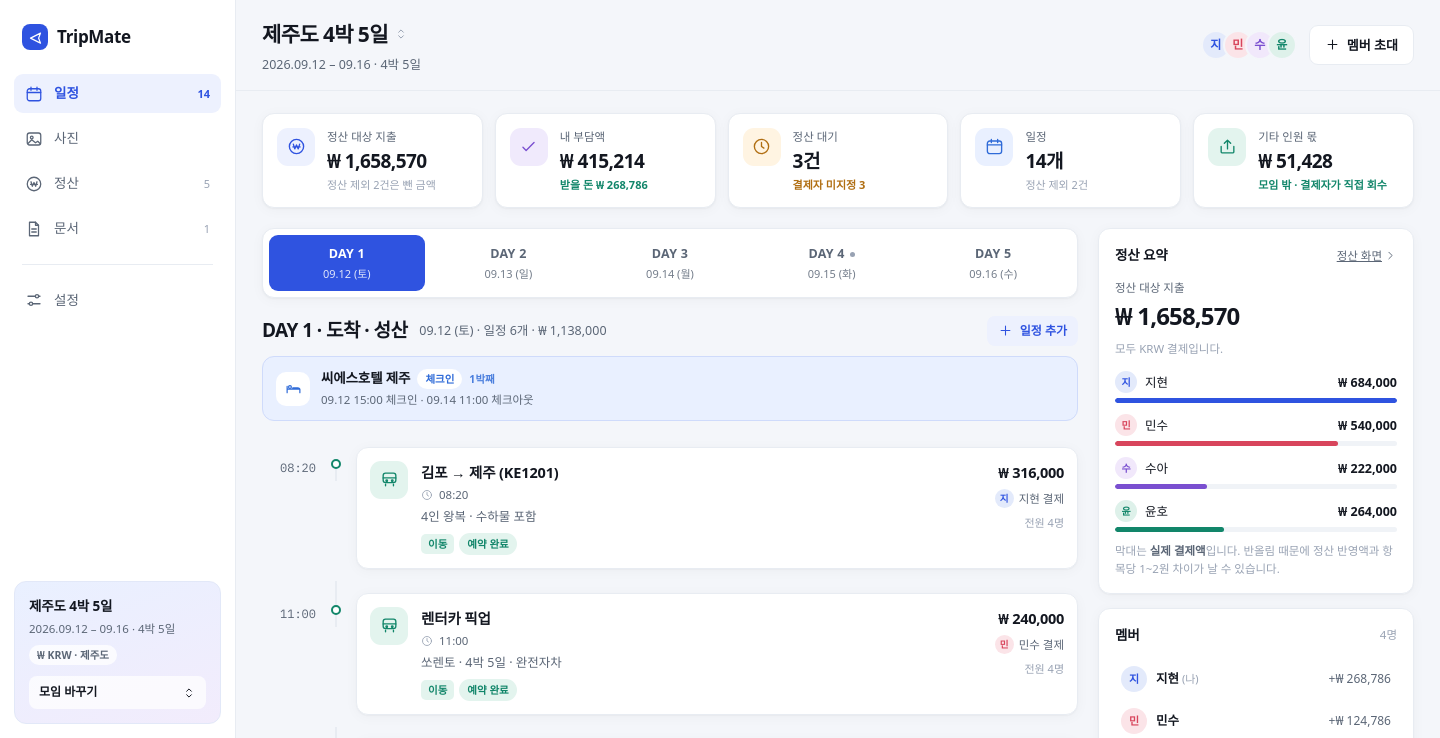
Test: 일정 화면 › 09.14 일차에는 숙소 칩이 2개다 (체크아웃 + 체크인)
Click the button with class "daytab" showing "DAY 3 09.14 (월)" at [670, 263], box top-left (592, 235), bottom-right (748, 291)
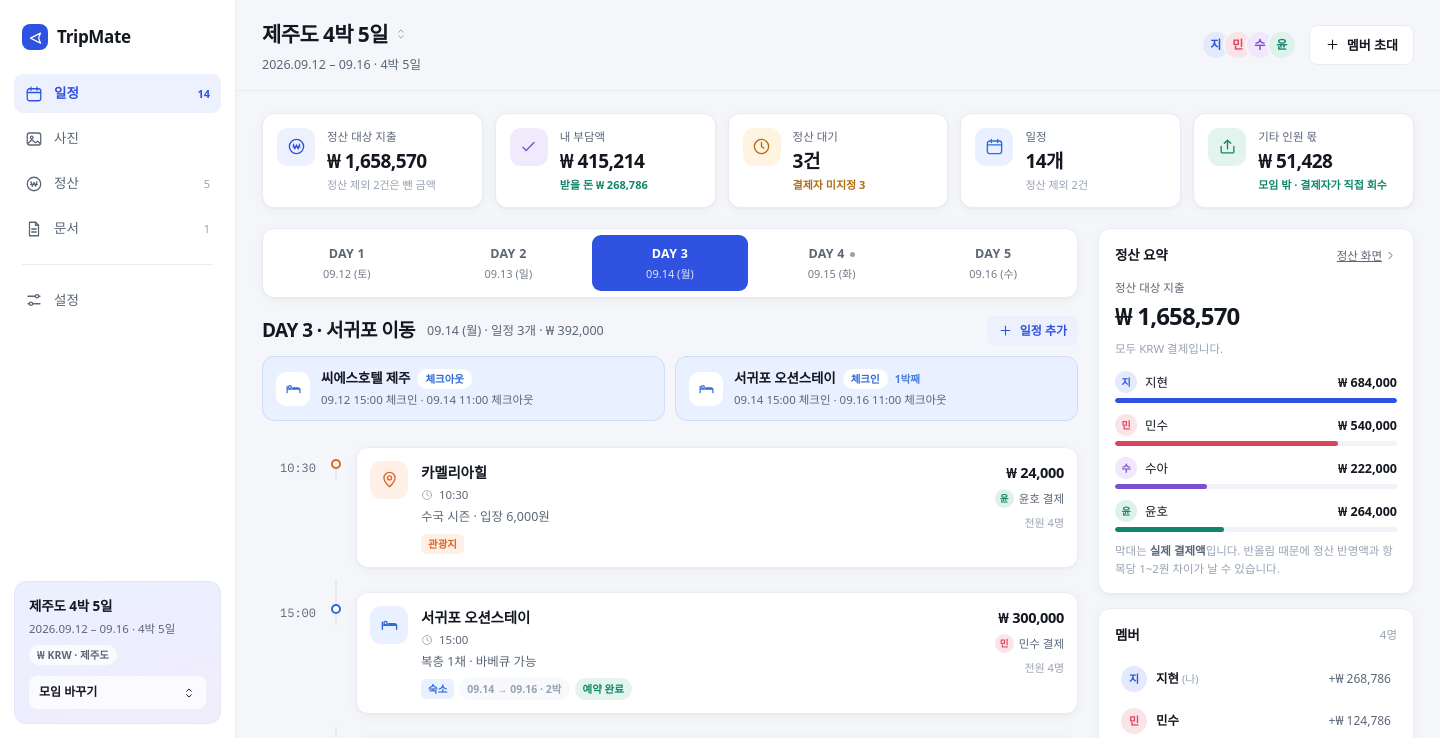
Check: the number of buttons with class "staycard" is 2, box top-left (262, 356), bottom-right (665, 421); top-left (675, 356), bottom-right (1078, 421)
